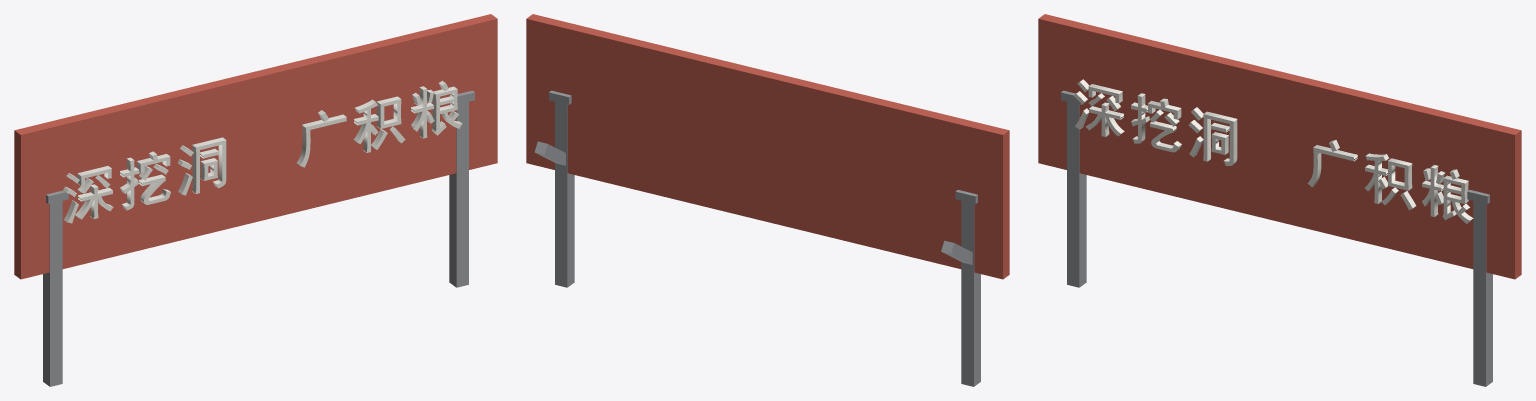
The model's file is slogan_tunnel.glb.
The picture shows the model from 3 angles, left to right: view 1: azimuth 30°, elevation 25°; view 2: azimuth 150°, elevation 25°; view 3: azimuth 330°, elevation 25°; orthographic projection.
Visible parts, largest first — view 1: slogan_tunnel; view 2: slogan_tunnel; view 3: slogan_tunnel.
Boxes of the visible parts, box(x1,y1,x2,y2) form: slogan_tunnel: box(14, 14, 497, 386); slogan_tunnel: box(526, 14, 1009, 386); slogan_tunnel: box(1038, 14, 1521, 386).
Bounding box in the file's own units: 3.8 × 1.97 × 0.4627.
